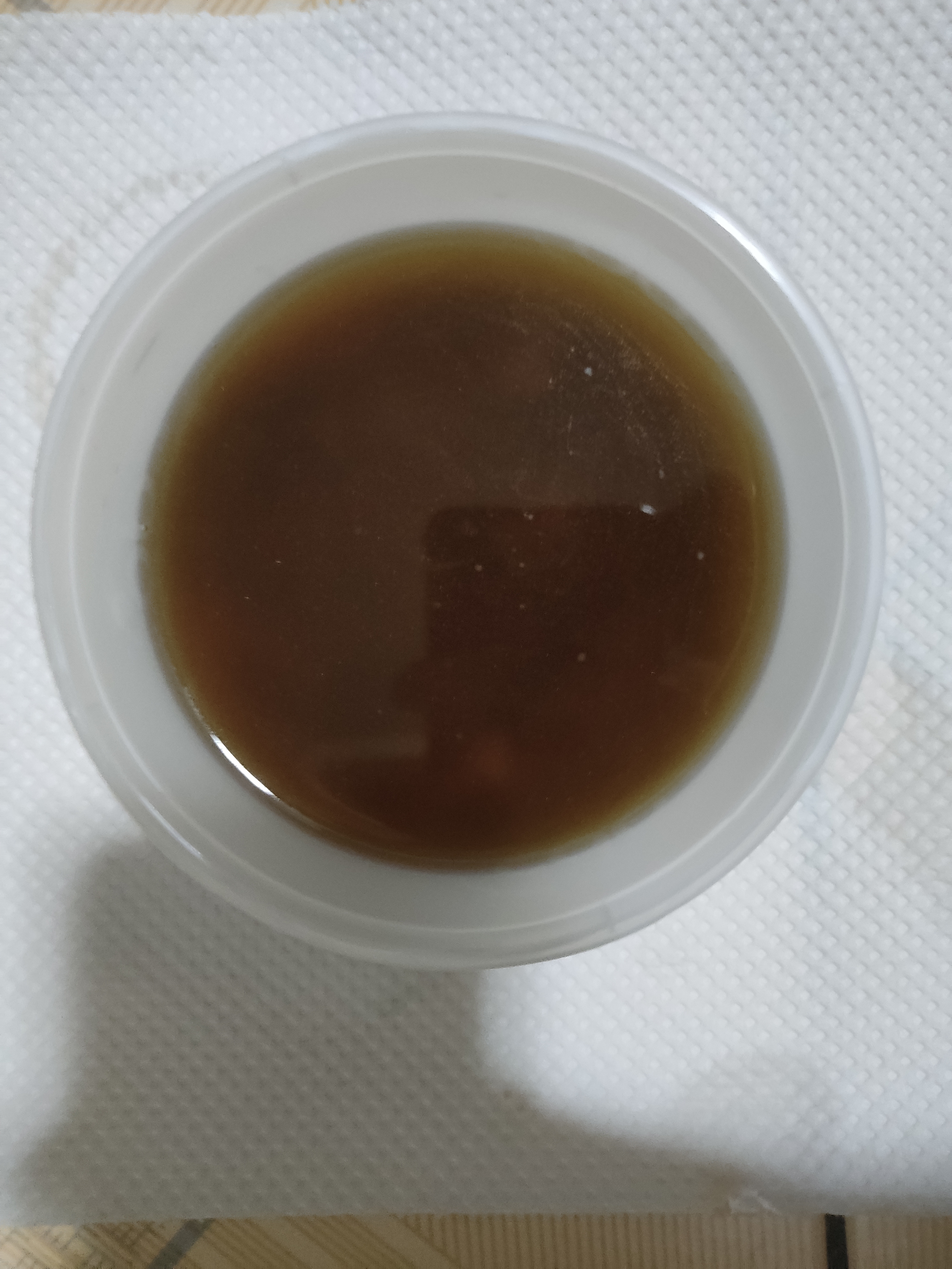non-reusable: (143, 226, 777, 867)
